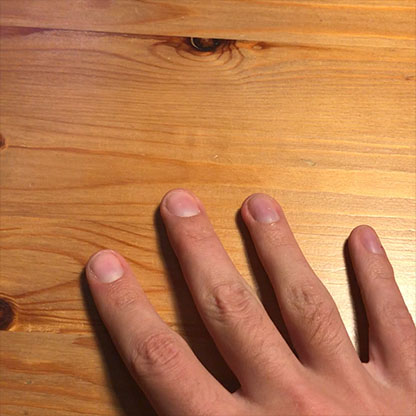fingertip: (345, 215, 392, 270), (158, 182, 212, 226), (84, 242, 131, 289), (241, 190, 291, 234)
